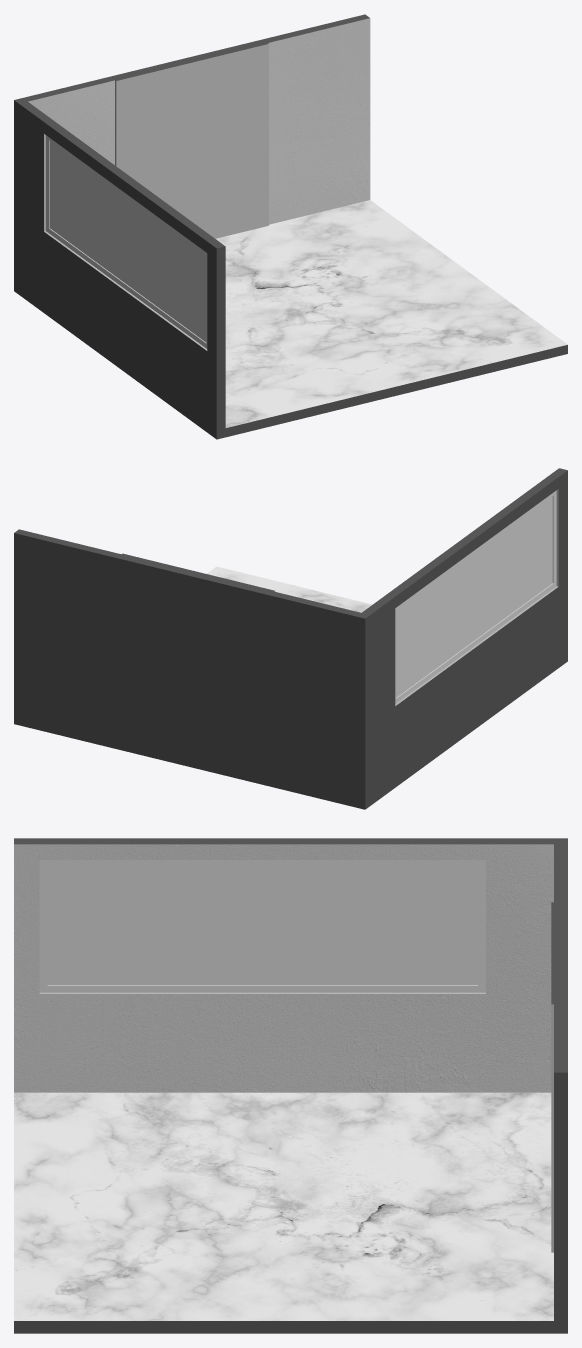
Rendered from Wall_7.fbx.
3 views of the same model, one above another, from view 1: azimuth 30°, elevation 25°; view 2: azimuth 150°, elevation 25°; view 3: azimuth 270°, elevation 25° (orthographic). The views are drawn at different scales.
Visible parts, largest first — view 1: Wall_7; view 2: Wall_7; view 3: Wall_7.
Part boxes in pixels (x1=…): Wall_7: x1=14, y1=14, x2=567, y2=439; Wall_7: x1=14, y1=468, x2=567, y2=809; Wall_7: x1=14, y1=838, x2=567, y2=1333.
Size of the model in its own units: 400 by 208 by 400.
